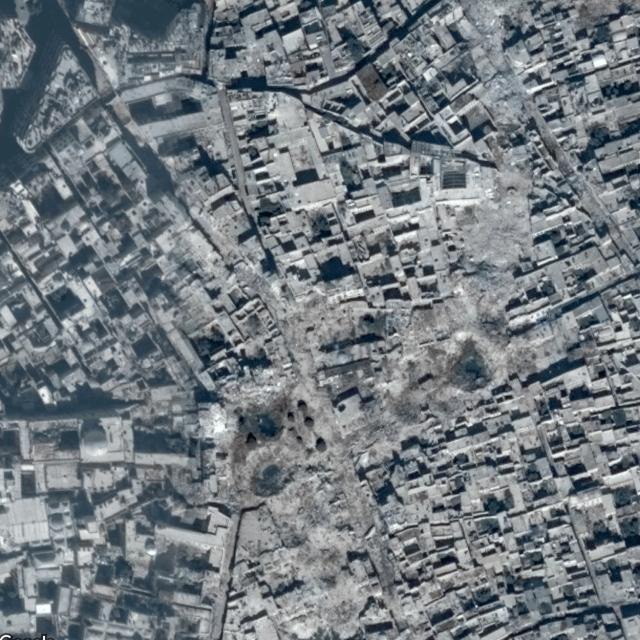damaged_building: (201, 0, 537, 633)
